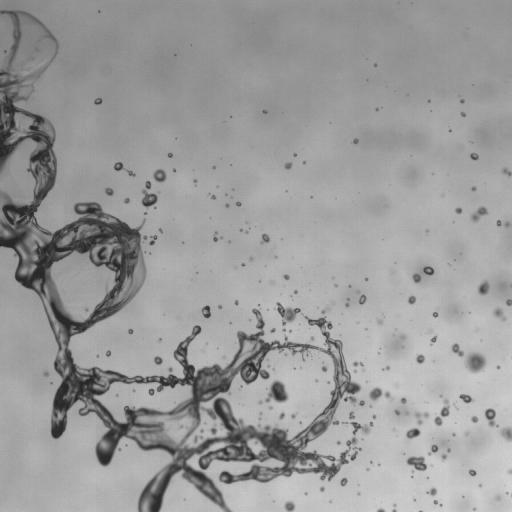droplet: (275, 302, 300, 325), (265, 380, 288, 402), (141, 181, 157, 208), (466, 353, 485, 373), (369, 387, 392, 401), (406, 456, 426, 470), (153, 169, 166, 182), (478, 280, 489, 295), (500, 426, 511, 441), (493, 308, 505, 321), (415, 412, 428, 424), (406, 428, 420, 439), (452, 343, 463, 356), (460, 394, 473, 403), (284, 501, 295, 511), (201, 305, 210, 317), (428, 444, 438, 454), (423, 266, 434, 275), (412, 273, 421, 282), (416, 354, 425, 363), (261, 234, 269, 243), (359, 294, 366, 304), (154, 356, 162, 364), (428, 487, 436, 495), (502, 168, 511, 175), (340, 477, 347, 486), (353, 361, 363, 367), (105, 188, 113, 195), (408, 296, 415, 304), (468, 469, 476, 476), (470, 153, 478, 159), (94, 98, 101, 104), (284, 163, 291, 169), (321, 365, 327, 372), (471, 416, 478, 422), (400, 397, 406, 403), (455, 208, 461, 213), (496, 220, 501, 226), (283, 274, 289, 279), (506, 299, 511, 305), (279, 413, 284, 419), (291, 412, 296, 418), (441, 454, 446, 460), (124, 198, 129, 203), (433, 312, 438, 317), (377, 319, 382, 324), (44, 371, 49, 376), (359, 400, 364, 405), (383, 366, 389, 370), (353, 139, 358, 143), (471, 186, 475, 191), (236, 202, 241, 206), (106, 351, 110, 356), (320, 486, 324, 491), (495, 496, 500, 500), (433, 500, 438, 504), (391, 507, 396, 511), (460, 99, 464, 103), (461, 112, 465, 116), (168, 153, 172, 157), (211, 195, 215, 199), (505, 222, 509, 226), (128, 329, 132, 333), (271, 328, 275, 332), (310, 336, 314, 340), (496, 365, 500, 369), (395, 410, 399, 414), (508, 469, 511, 474), (235, 300, 238, 304), (85, 307, 88, 311), (401, 335, 405, 338), (35, 48, 38, 51), (263, 110, 266, 113), (225, 204, 228, 207), (159, 229, 162, 232), (249, 257, 252, 260), (294, 290, 297, 293), (345, 303, 348, 306), (218, 305, 221, 308), (259, 401, 262, 404), (269, 406, 272, 409), (372, 415, 375, 418), (337, 441, 340, 444), (447, 449, 450, 452), (194, 179, 196, 183), (294, 153, 296, 156), (245, 230, 248, 232), (242, 263, 244, 266), (285, 352, 287, 355), (29, 58, 31, 60), (19, 66, 21, 68), (335, 284, 337, 286), (158, 339, 160, 341), (303, 358, 305, 360), (406, 412, 408, 414)
ligament: (0, 10, 373, 511), (434, 399, 450, 425), (114, 162, 134, 176), (470, 206, 487, 221), (484, 408, 498, 426), (149, 235, 157, 245), (430, 335, 437, 344), (213, 232, 218, 241), (376, 508, 385, 511), (419, 510, 422, 511)
